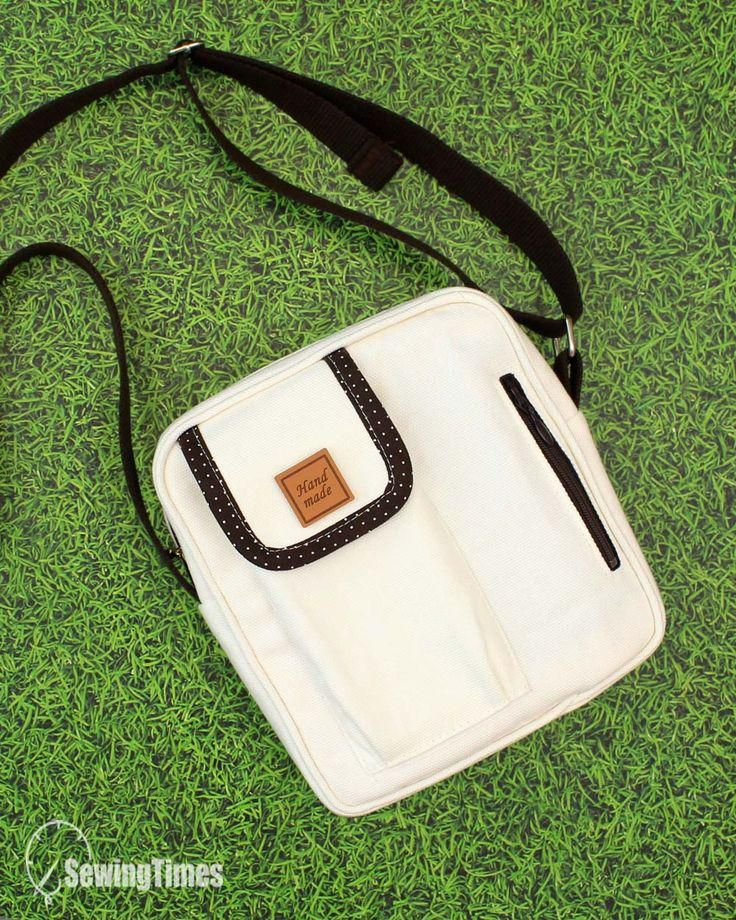cuero: (150, 285, 669, 818)
